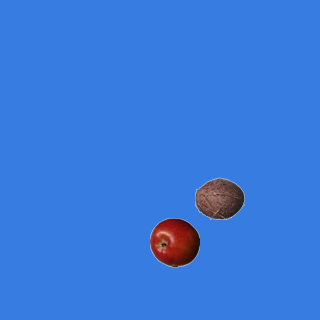Apple Braeburn: (149, 217, 199, 267)
Cocos: (194, 173, 244, 223)
